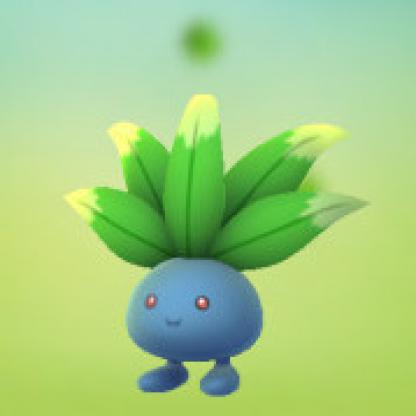Oddish: (59, 81, 370, 401)
